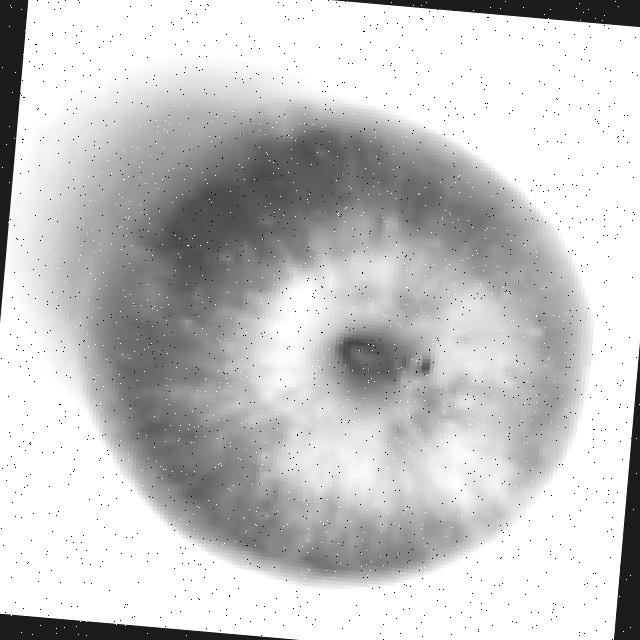Ripe: (39, 76, 622, 619)
